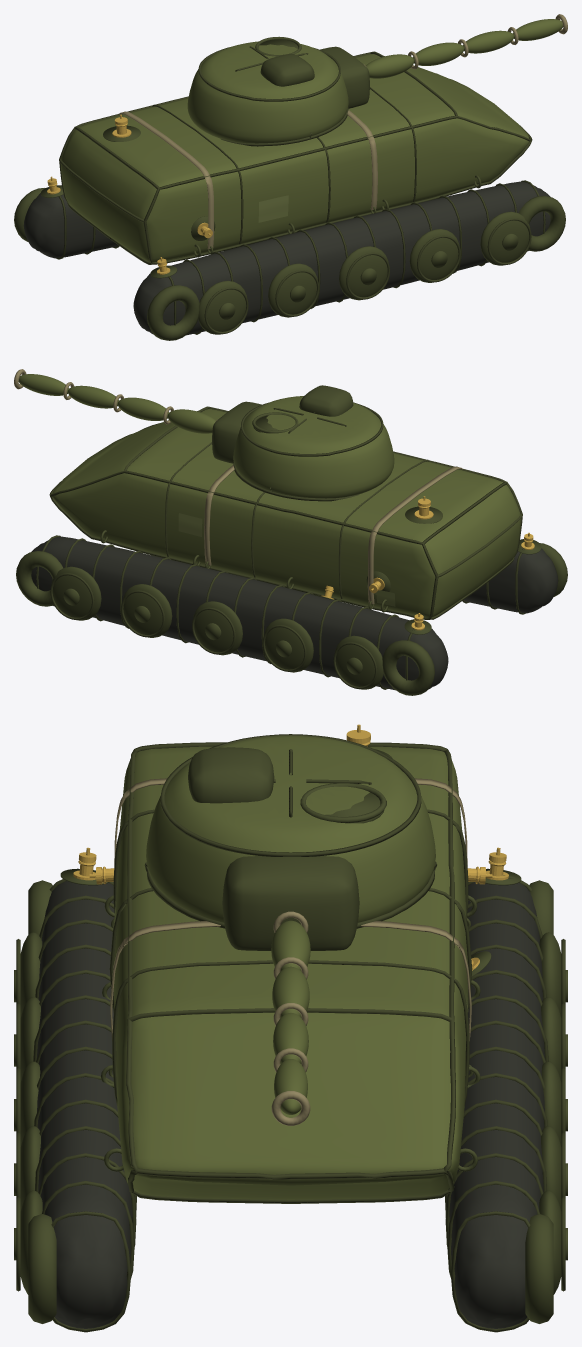
File: inflatable_tank_lod.glb
The picture shows the model from 3 angles, top to bottom: view 1: azimuth 30°, elevation 25°; view 2: azimuth 150°, elevation 25°; view 3: azimuth 270°, elevation 25°; orthographic projection. The views are drawn at different scales.
Visible parts, largest first — view 1: hull_bladder, track_bladder_L, wheel_cushions_L, turret_bladder, hull_seams, track_bladder_R, gun_segments, straps, mantlet_cushion, cupola_bladder, turret_seams, patch_L1 (+3 smaller); view 2: hull_bladder, track_bladder_R, wheel_cushions_R, turret_bladder, hull_seams, track_bladder_L, gun_segments, straps, mantlet_cushion, turret_seams, cupola_bladder, wheel_cushions_L (+3 smaller); view 3: hull_bladder, hull_seams, turret_bladder, track_bladder_L, track_bladder_R, mantlet_cushion, wheel_cushions_L, wheel_cushions_R, gun_segments, cupola_bladder, turret_seams, straps (+3 smaller).
Boxes of the visible parts, left/top/right/bottom form: hull_bladder: left=61, top=54, right=529, bottom=262; track_bladder_L: left=133, top=181, right=550, bottom=335; wheel_cushions_L: left=147, top=196, right=565, bottom=340; turret_bladder: left=187, top=41, right=348, bottom=143; hull_seams: left=49, top=51, right=545, bottom=334; track_bladder_R: left=23, top=185, right=117, bottom=258; gun_segments: left=365, top=19, right=563, bottom=78; straps: left=119, top=110, right=377, bottom=249; mantlet_cushion: left=320, top=46, right=369, bottom=108; cupola_bladder: left=260, top=54, right=314, bottom=86; turret_seams: left=198, top=46, right=348, bottom=146; patch_L1: left=258, top=195, right=288, bottom=222; hull_bladder: left=52, top=409, right=520, bottom=617; track_bladder_R: left=31, top=536, right=448, bottom=690; wheel_cushions_R: left=16, top=551, right=434, bottom=695; turret_bladder: left=233, top=396, right=394, bottom=498; hull_seams: left=36, top=406, right=525, bottom=689; track_bladder_L: left=464, top=548, right=558, bottom=613; gun_segments: left=18, top=374, right=216, bottom=433; straps: left=204, top=465, right=462, bottom=604; mantlet_cushion: left=212, top=401, right=261, bottom=463; turret_seams: left=233, top=402, right=383, bottom=501; cupola_bladder: left=299, top=385, right=353, bottom=416; wheel_cushions_L: left=539, top=543, right=567, bottom=596; hull_bladder: left=113, top=746, right=468, bottom=1199; hull_seams: left=16, top=742, right=565, bottom=1332; turret_bladder: left=146, top=735, right=435, bottom=922; track_bladder_L: left=36, top=881, right=132, bottom=1328; track_bladder_R: left=449, top=882, right=545, bottom=1328; mantlet_cushion: left=222, top=856, right=359, bottom=950; wheel_cushions_L: left=14, top=880, right=56, bottom=1323; wheel_cushions_R: left=525, top=880, right=567, bottom=1323; gun_segments: left=271, top=920, right=310, bottom=1114; cupola_bladder: left=188, top=747, right=274, bottom=803; turret_seams: left=144, top=734, right=436, bottom=928; straps: left=110, top=778, right=471, bottom=1040.
Bounding box in the file's own units: 6.95 × 2.96 × 3.7.
